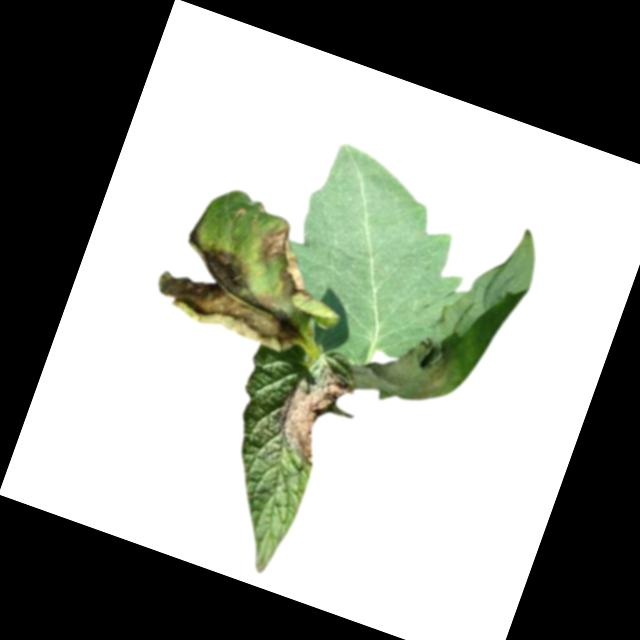Late_blight: (148, 219, 326, 358), (349, 318, 465, 418), (266, 359, 359, 472), (242, 215, 327, 309)
